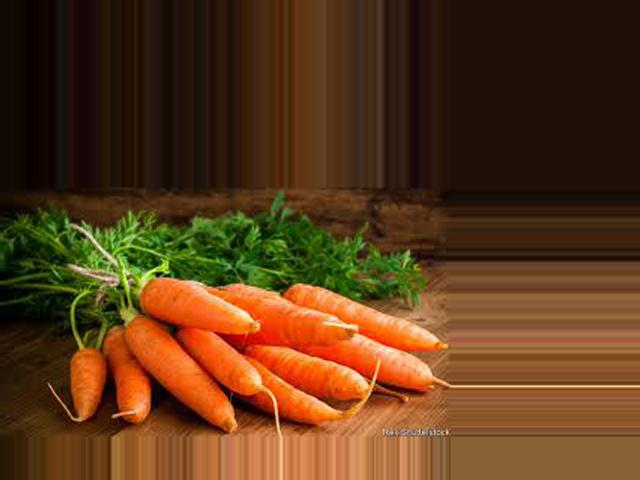carrot: (110, 302, 236, 428)
